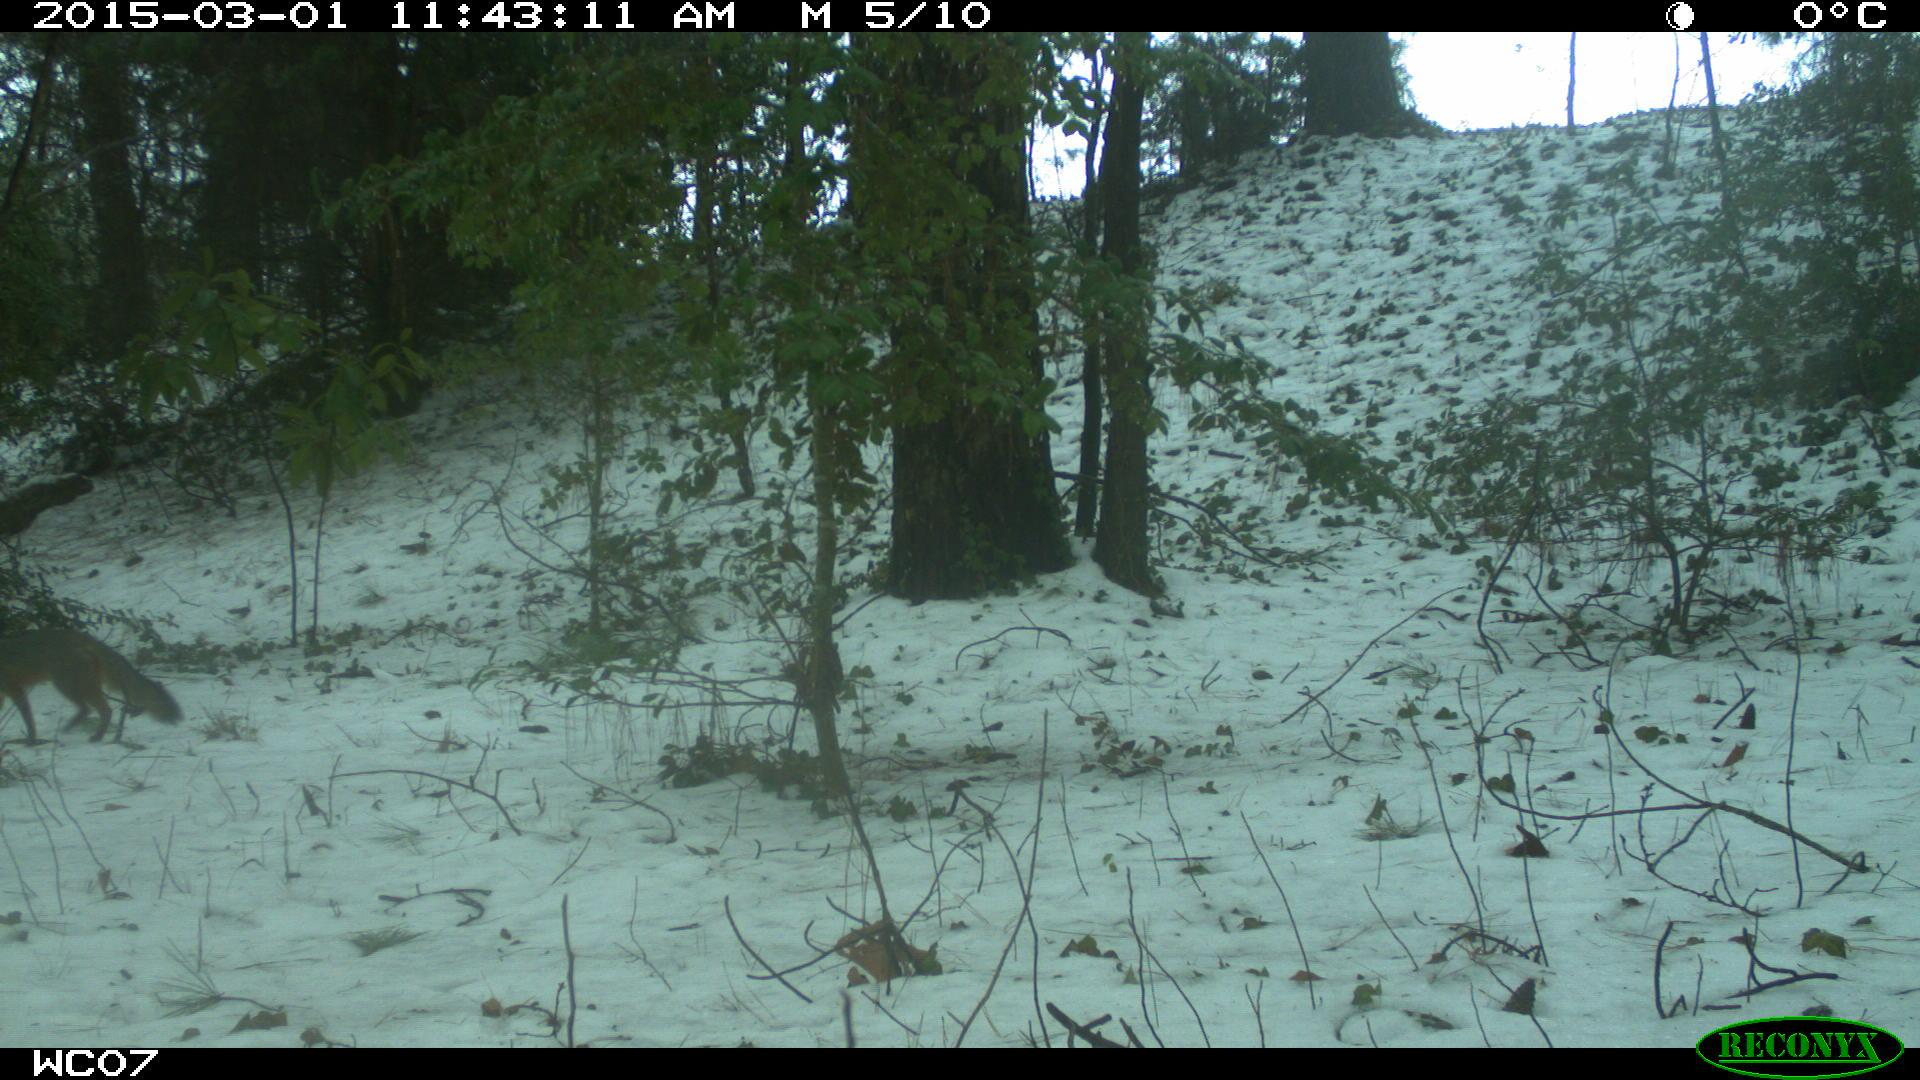Animal: (1, 629, 181, 752)
